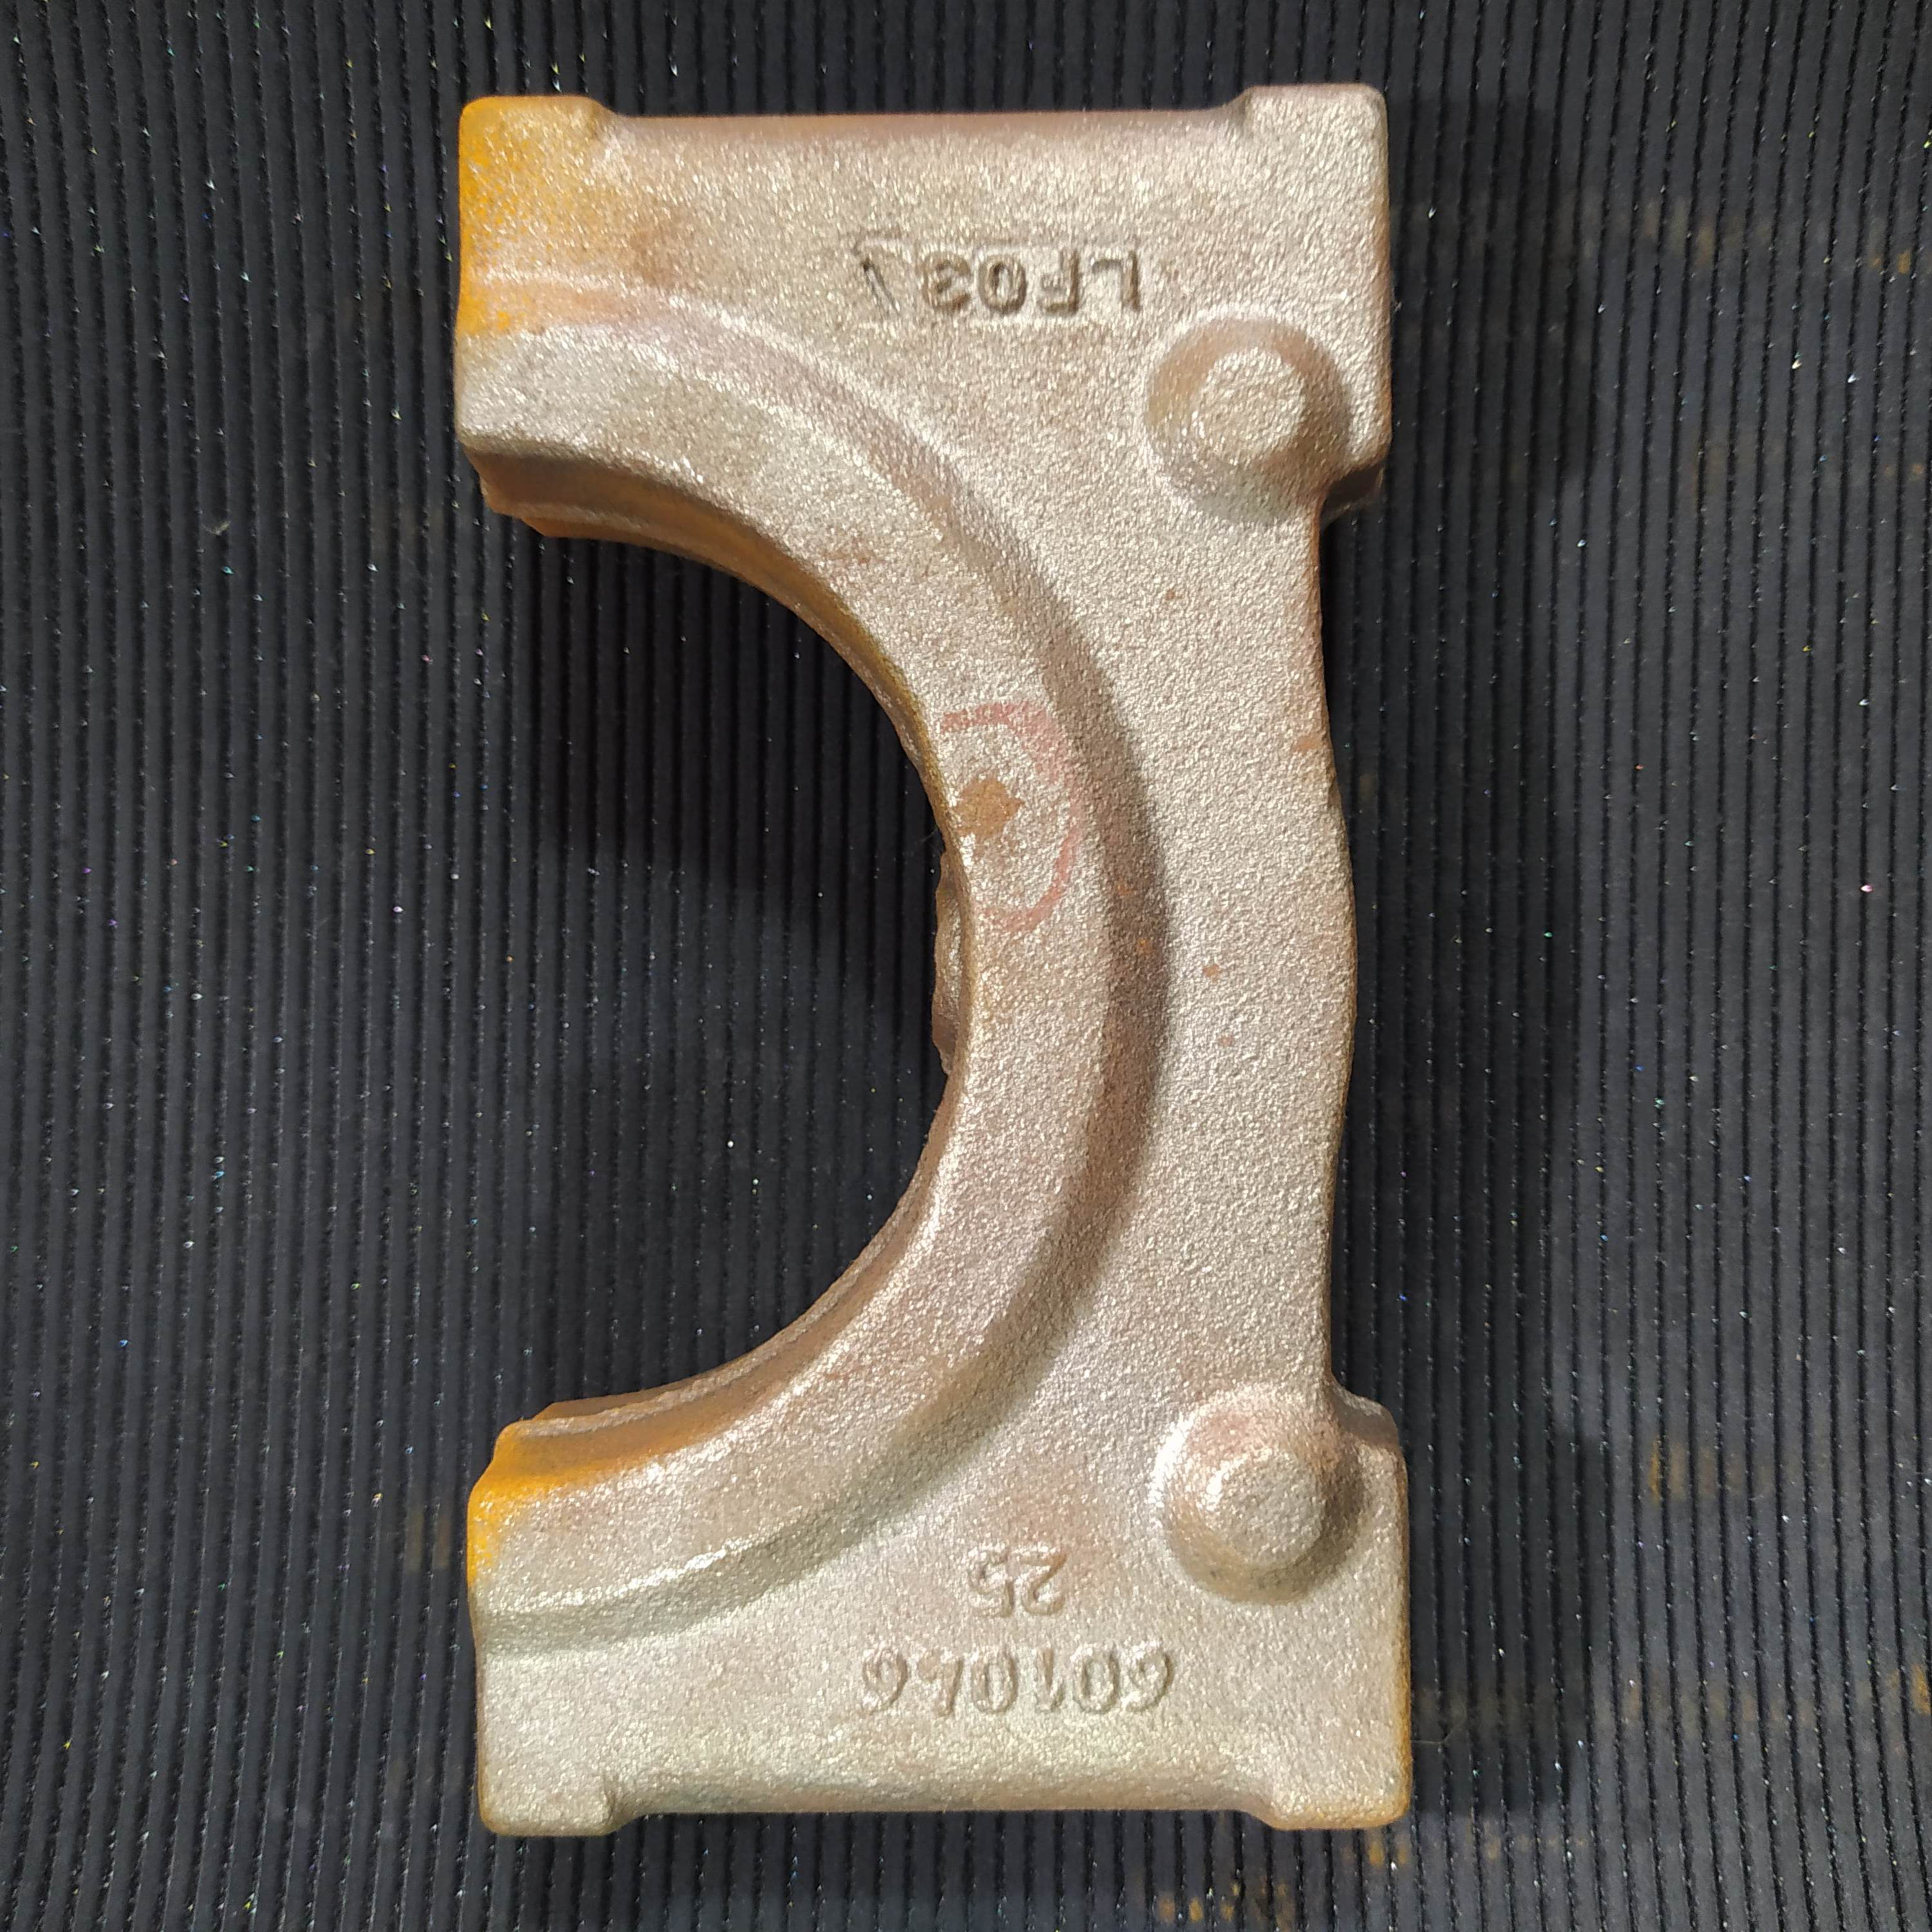mancha (ferrugem): (947, 770, 1031, 849)
